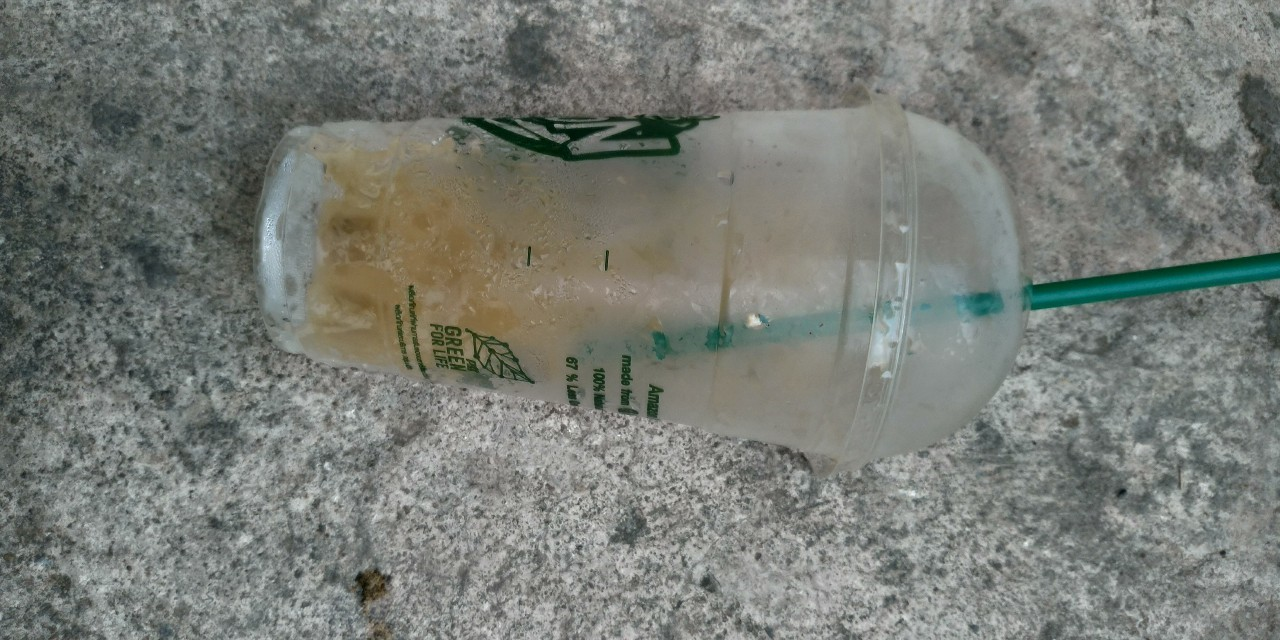PlasticCup: (252, 94, 1035, 465)
